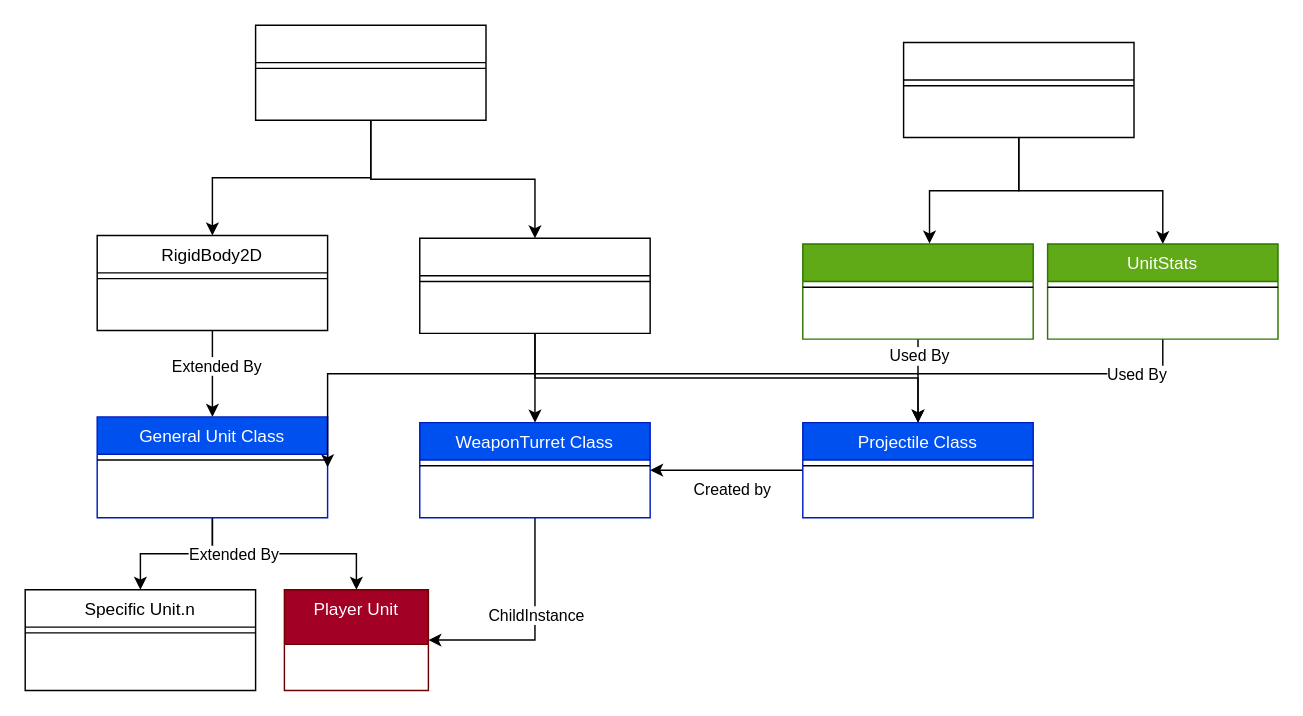
This 1303x716 diagram has some shape labels left out. The shapes that lost their labels are listed below. From the top down, each one's box as (x1, y1, x2, y2) in pixels, then its label:
(254, 24, 486, 120): Nodes
(902, 41, 1134, 138): Resource Classes
(418, 237, 650, 333): Node2D
(801, 243, 1033, 339): DamageStats
